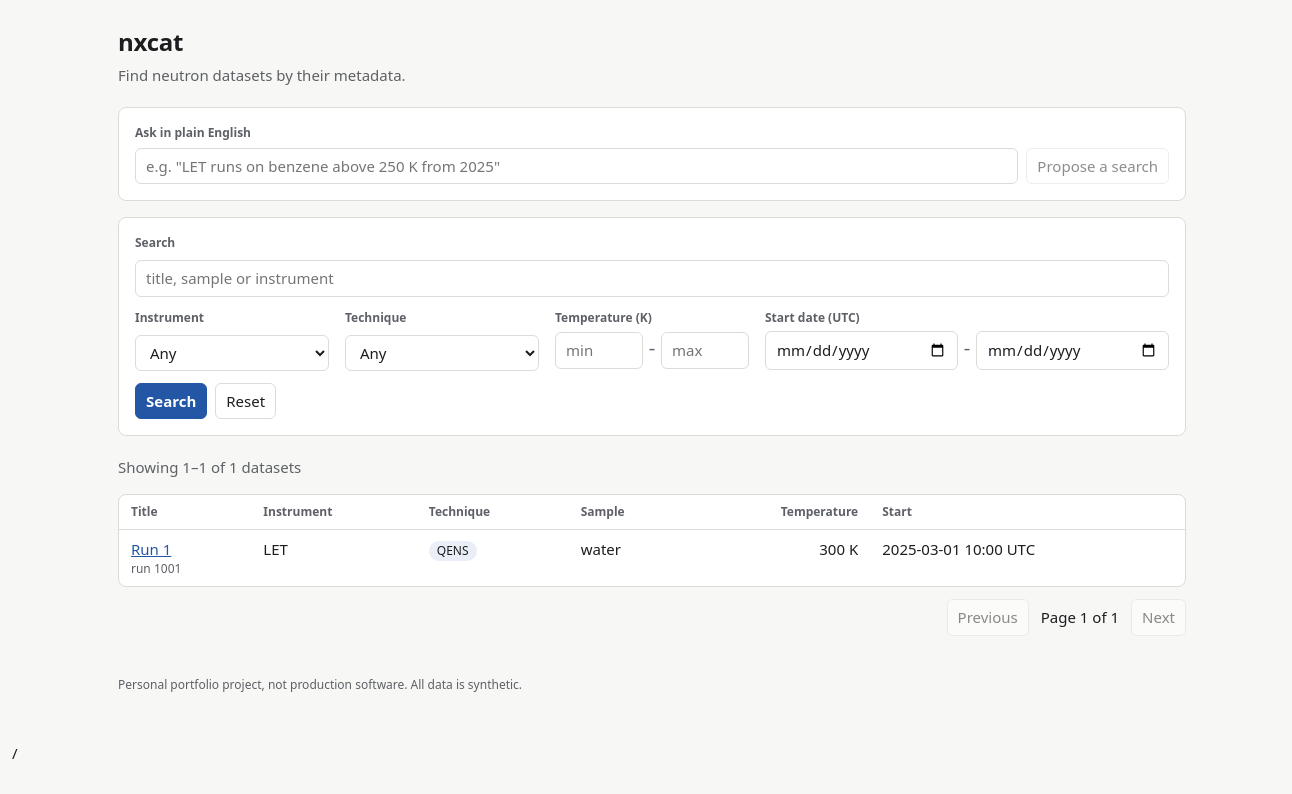
Scenario: plain-English search › runs the proposed search only after the user presses Run
This screenshot has width=1292, height=794.
expect the table is shown: met, box [119,494,1185,586]
Type "LET benzene" into the field labelled "Ask in plain English". click: (577, 166)
box: [135,148,1018,184]
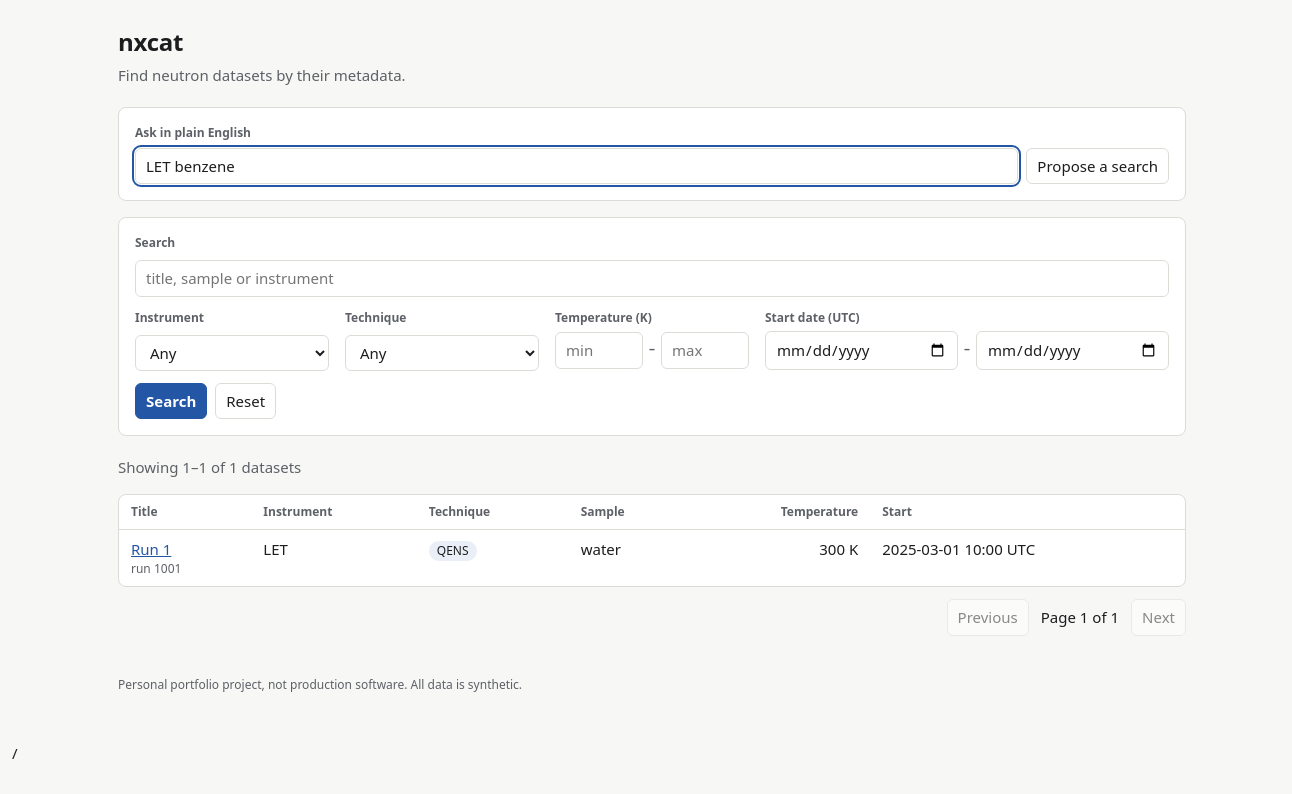
Click the button "Propose a search". click: (1098, 166)
box: [1026,148,1169,184]
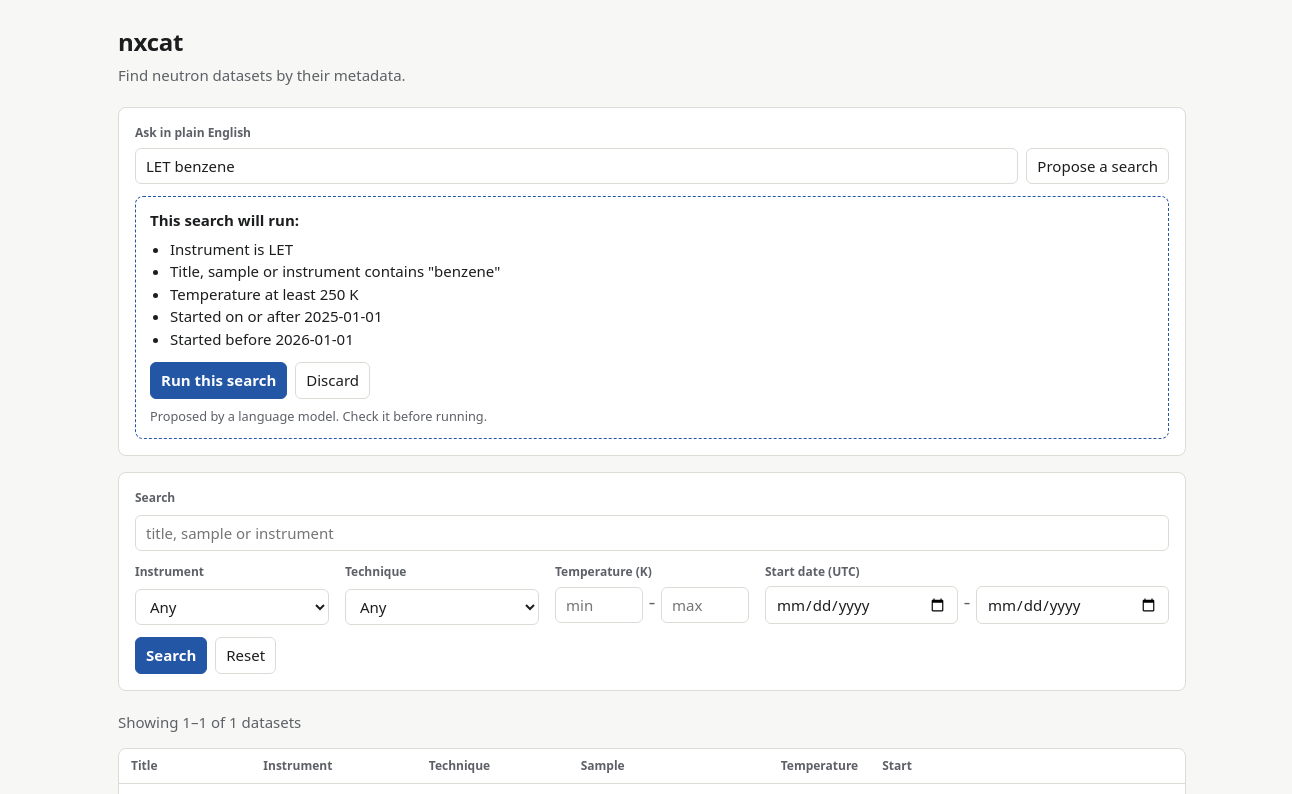
expect the element named "Proposed search" is shown: met, box [135,196,1169,439]
Click the button "Run this search". click: (219, 380)
box: [150,362,287,398]
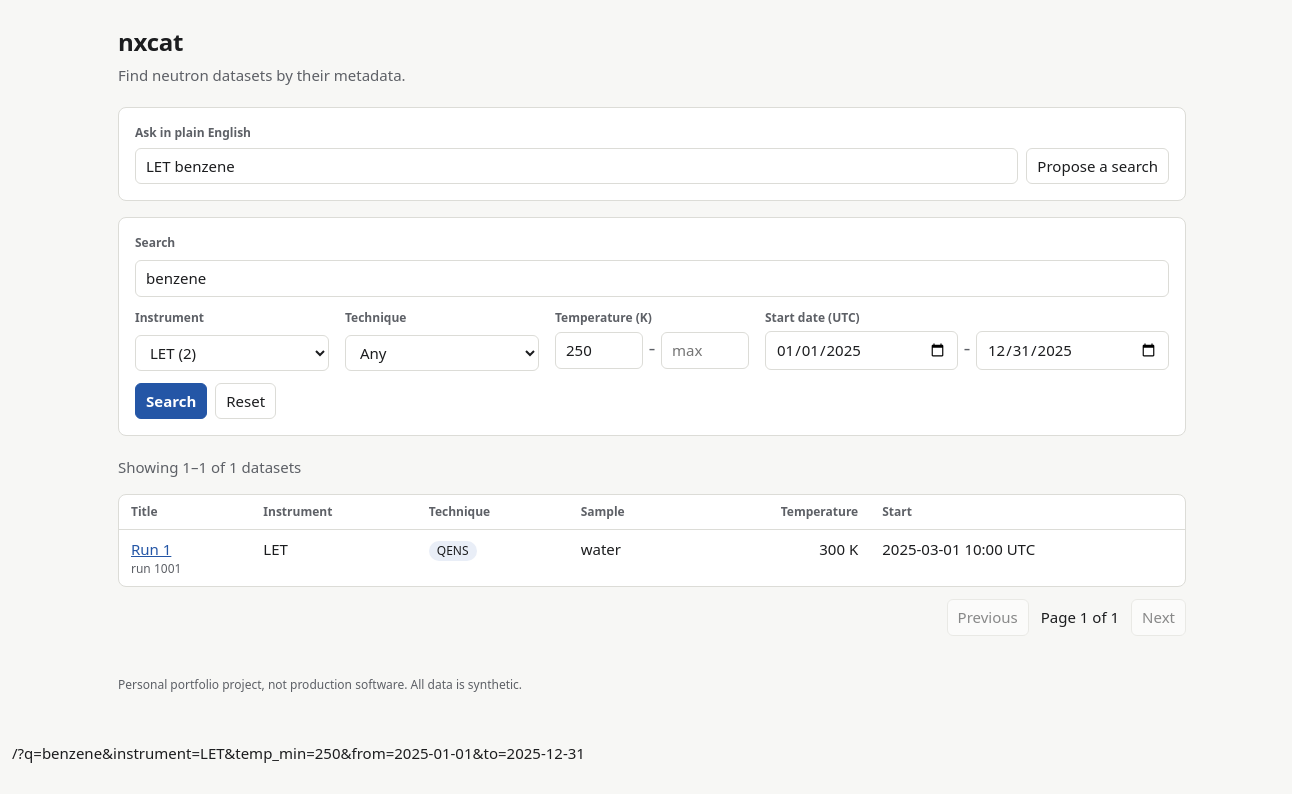
expect the table is shown: met, box [119,494,1185,586]
expect the text with test id "address" reads "/?q=benzene&instrument=LET&temp_min=250&from=2025-01-01&to=2025-12-31": met, box [12,742,585,762]
expect the search field labelled "Search" holds "benzene": met, box [135,260,1169,296]
